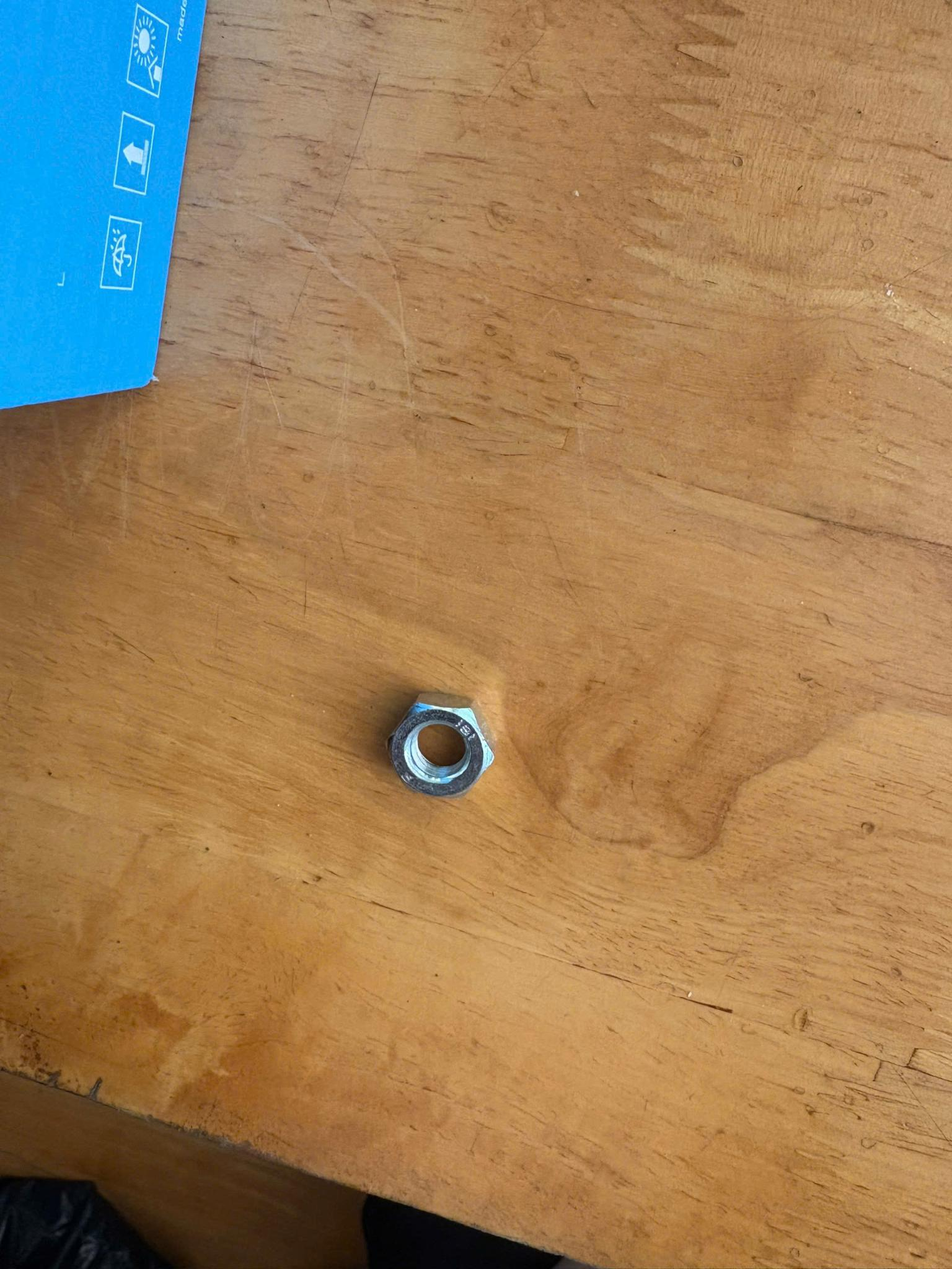nut: (367, 687, 500, 803)
